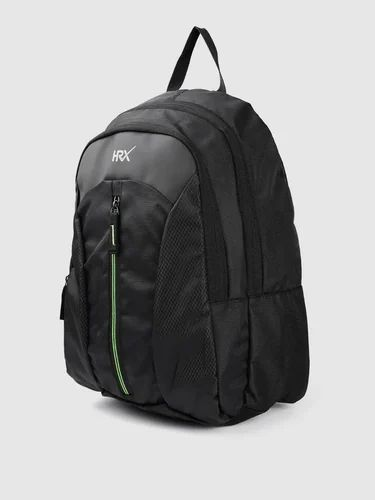backpack: (59, 25, 310, 427)
